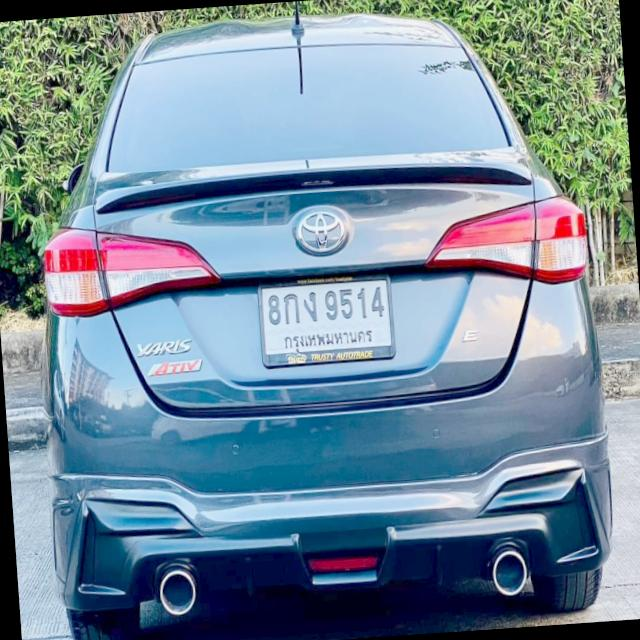license_plate: (256, 264, 397, 368)
